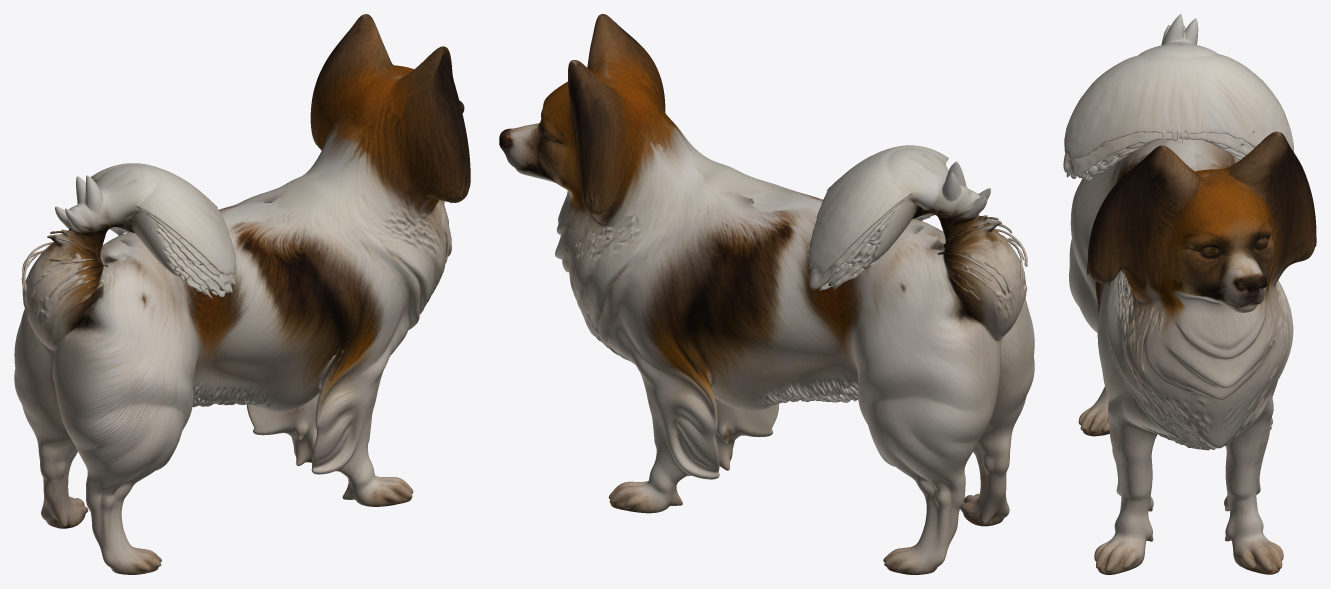
The model's file is rin.glb.
3 views of the same model, side by side, from view 1: azimuth 30°, elevation 25°; view 2: azimuth 150°, elevation 25°; view 3: azimuth 270°, elevation 25° (orthographic). The views are drawn at different scales.
Parts seen in each view (by area): view 1: texture_pbr_v128; view 2: texture_pbr_v128; view 3: texture_pbr_v128.
Part boxes in pixels (x1=…): texture_pbr_v128: x1=14, y1=14, x2=470, y2=574; texture_pbr_v128: x1=499, y1=14, x2=1034, y2=574; texture_pbr_v128: x1=1063, y1=14, x2=1316, y2=574.
Size of the model in its own units: 1 by 0.8685 by 0.4313.
1 material, 1 textured.
